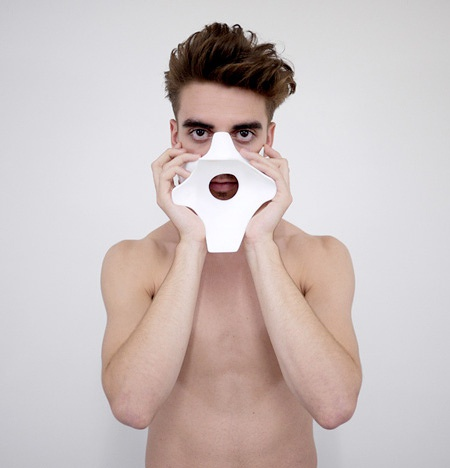face_mask: (177, 83, 270, 213)
